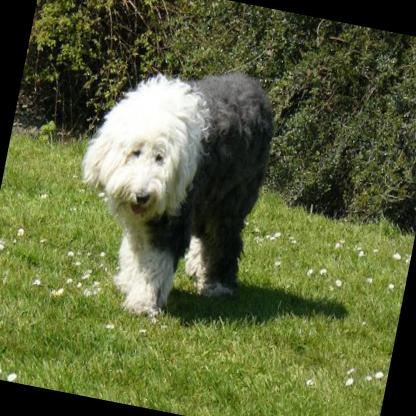Old_English_sheepdog: (54, 40, 283, 333)
